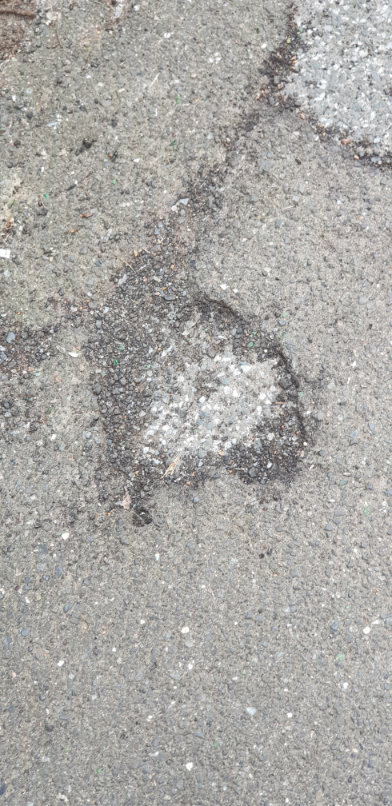pothole: (75, 279, 310, 500), (254, 0, 392, 174)
